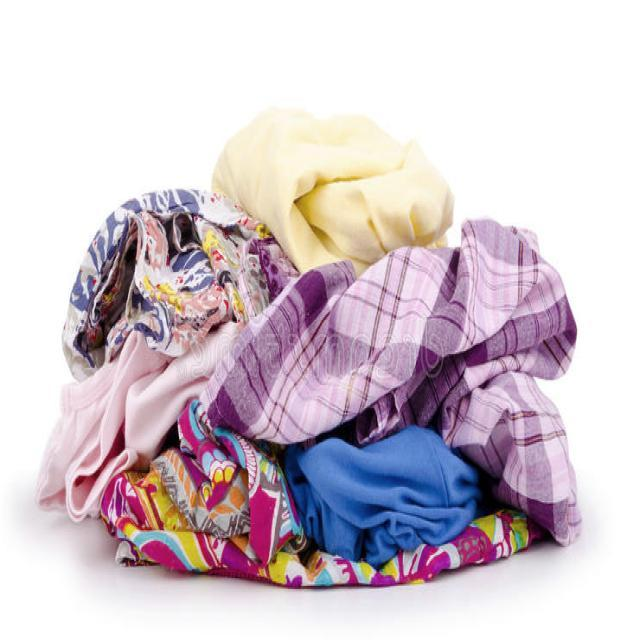clothes: (39, 156, 582, 605)
